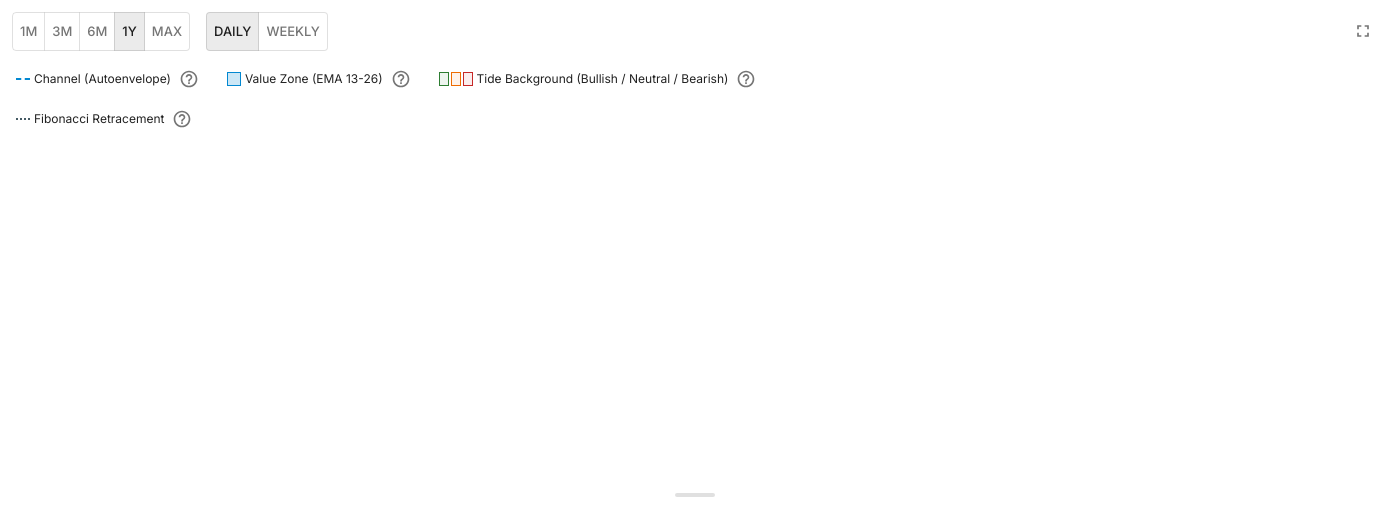
Test: PriceChart › shows the insufficient-weekly-history 422 distinctly via common/ErrorState
Click the button "Weekly": (293, 31) [258,12,328,51]
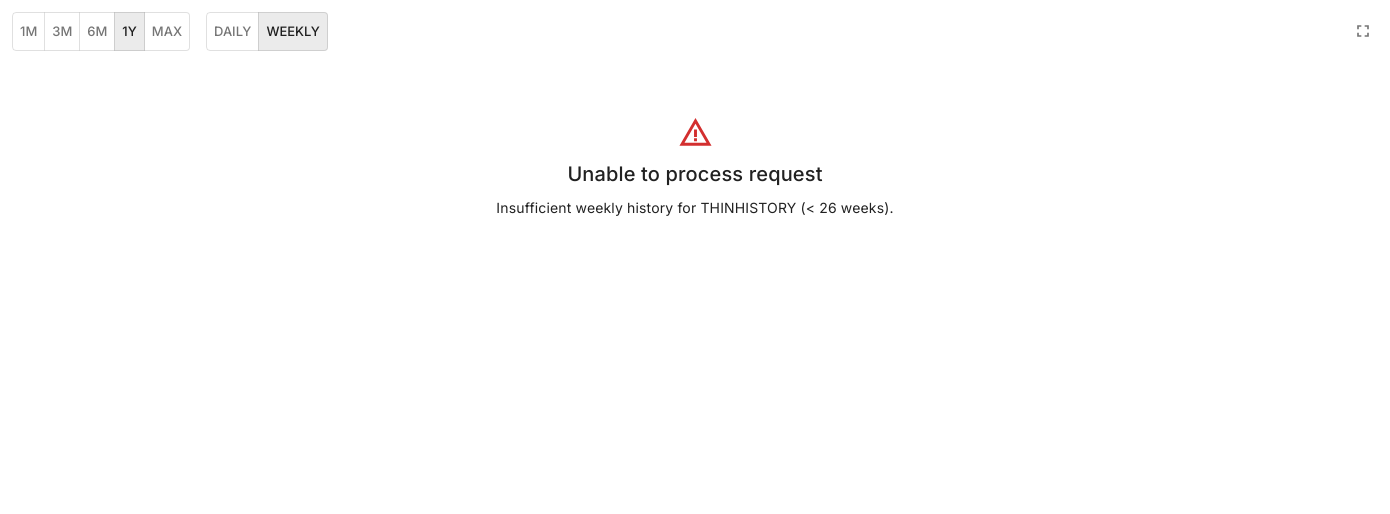
Check: the message is shown, box [496,115,894,216]
Check: the text "Unable to process request" is shown, box [567,158,823,190]
Check: the text "Insufficient weekly history for THINHISTORY (< 26 weeks)." is shown, box [496,198,894,218]
